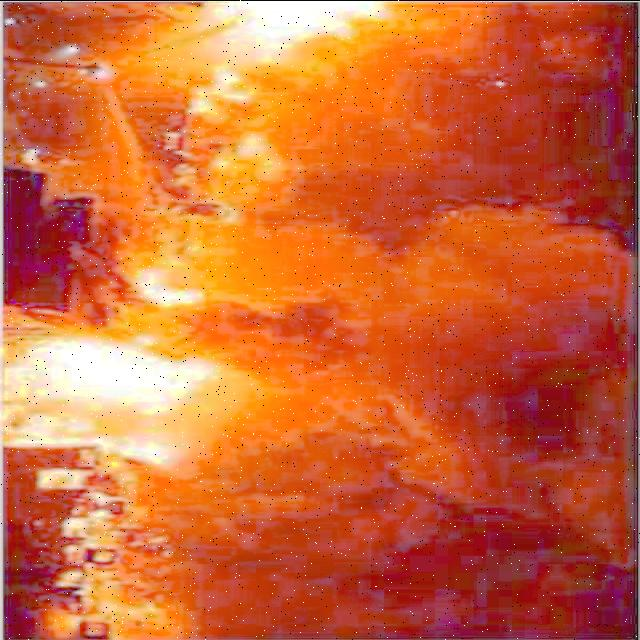api: (3, 332, 225, 463), (40, 468, 174, 640), (200, 1, 403, 64), (140, 271, 209, 309)
asap: (235, 191, 625, 560), (411, 3, 616, 162), (288, 65, 389, 165)
